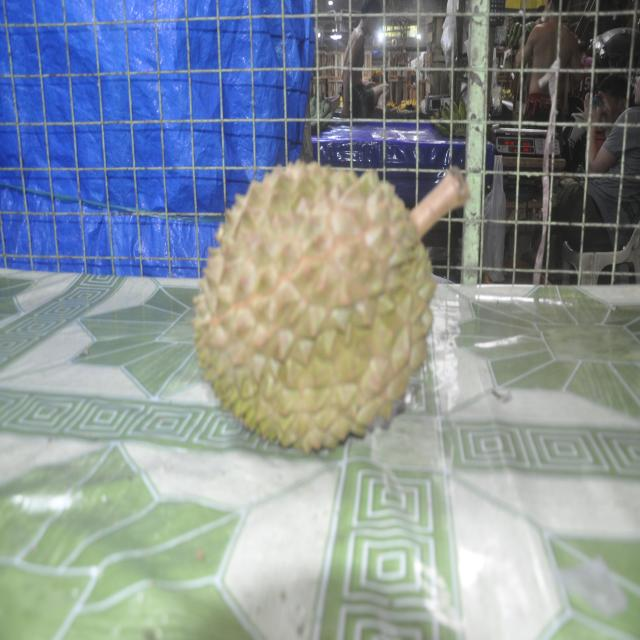mature: (193, 161, 469, 451)
